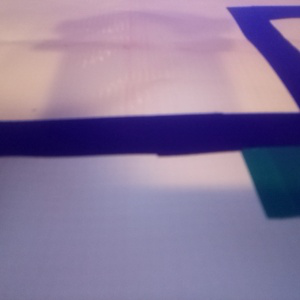bottom_left: (241, 113, 300, 218)
